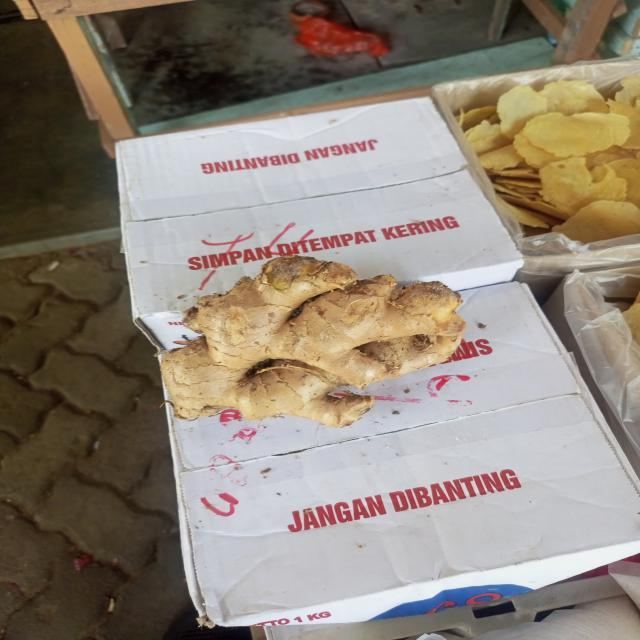ginger: (160, 258, 466, 423)
